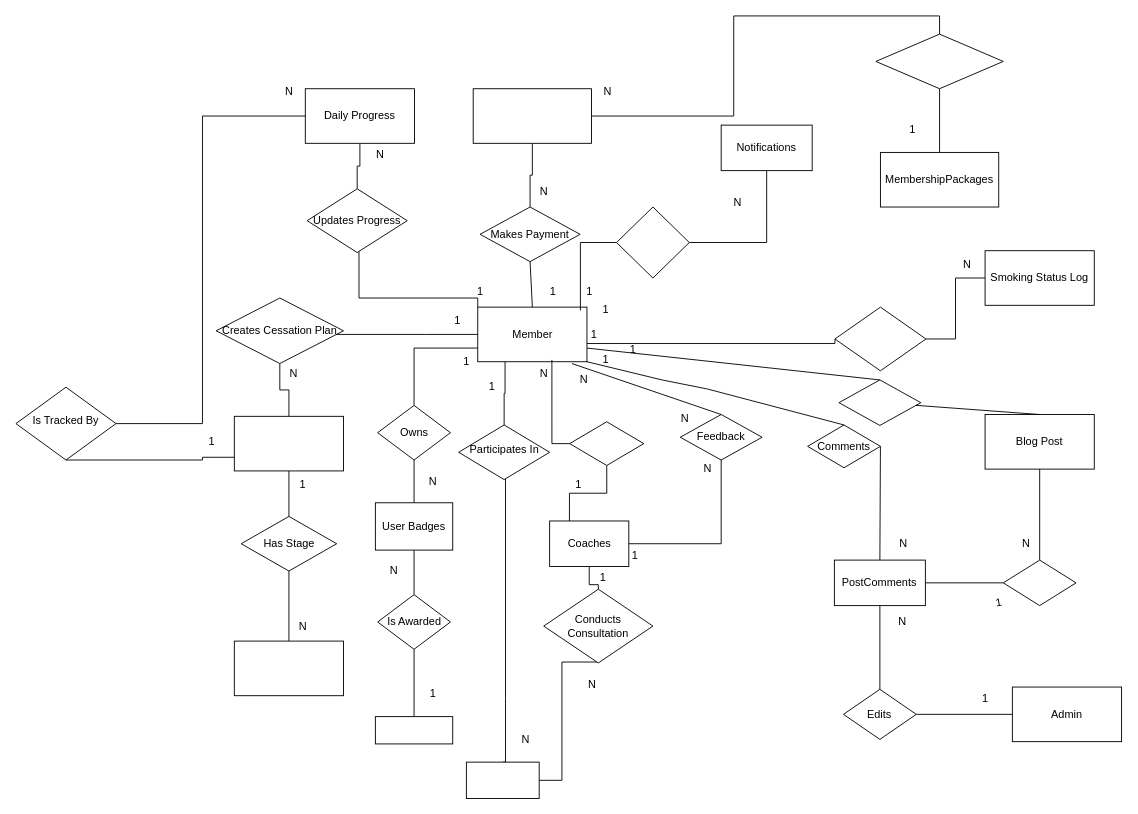
Image size: 1138x814. Some labels were removed from this diagram. The shapes that lost their labels are listed below. From the top down, each one's centre as x and y in pixels, then its label:
the point at 939,61: Is Paid Through
the point at 532,115: Payments
the point at 652,242: Receives Notification
the point at 880,338: Smoking Status
the point at 879,402: Writes
the point at 288,443: Cessation Plans
the point at 606,443: Supervises
the point at 1039,582: Has
the point at 288,668: PlanStages
the point at 413,730: Badges
the point at 502,780: Consulations
